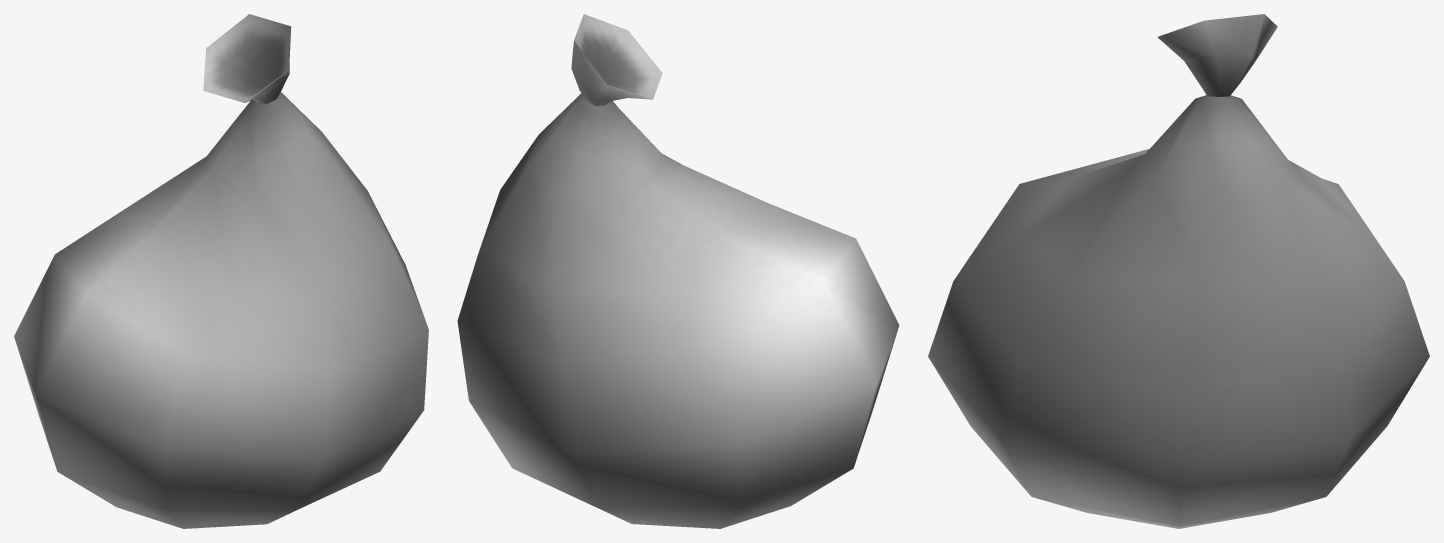
The model's file is field_maze_balloon.glb.
3 views of the same model, side by side, from view 1: azimuth 30°, elevation 25°; view 2: azimuth 150°, elevation 25°; view 3: azimuth 270°, elevation 25° (orthographic). The views are drawn at different scales.
Parts seen in each view (by area): view 1: waterBalloon; view 2: waterBalloon; view 3: waterBalloon.
Boxes of the visible parts, x1,y1,x2,y2 form: waterBalloon: (14, 14, 428, 528); waterBalloon: (457, 14, 899, 528); waterBalloon: (928, 14, 1429, 528).
Size of the model in its own units: 1.11 by 1.23 by 1.09.
Materials: 1 (1 with a texture image).
